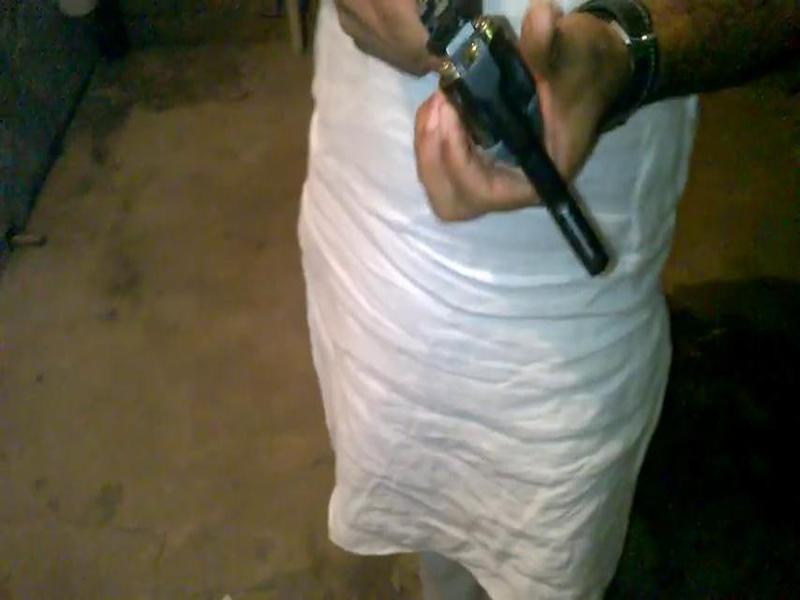Revolver: (425, 14, 620, 277)
